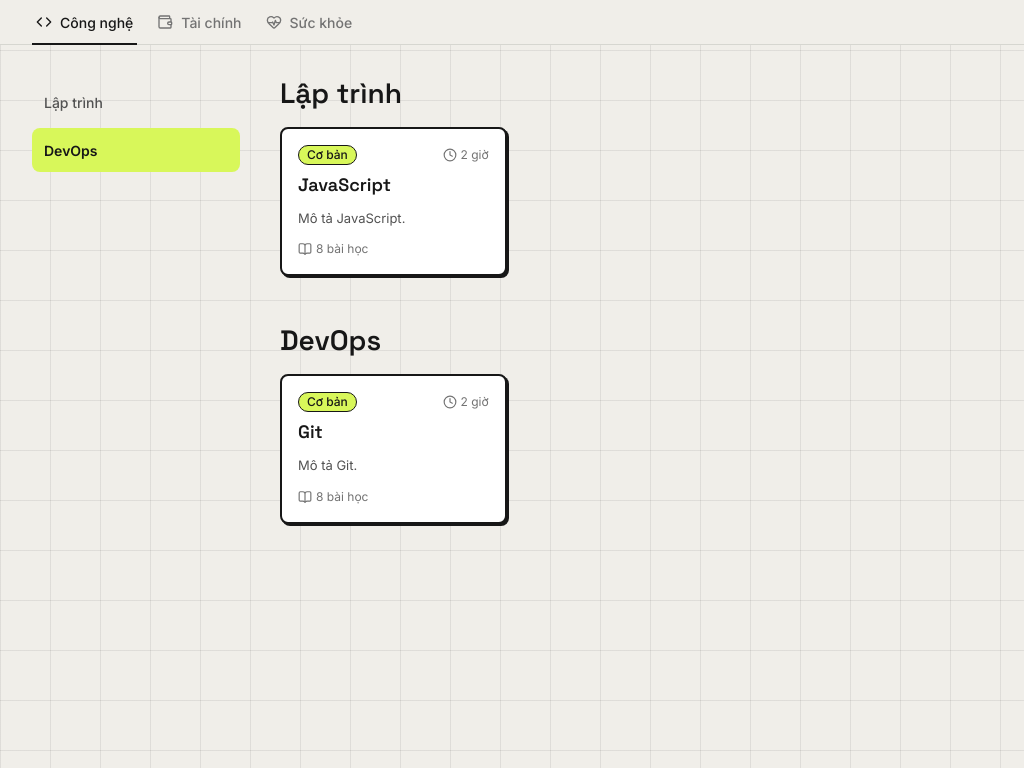
LearningHub › swaps the whole content when another tab is chosen, and goes back to the top
(page scrolled)
Click the tab "Tài chính" at {"x": 199, "y": 22}, box [153,0,246,44]
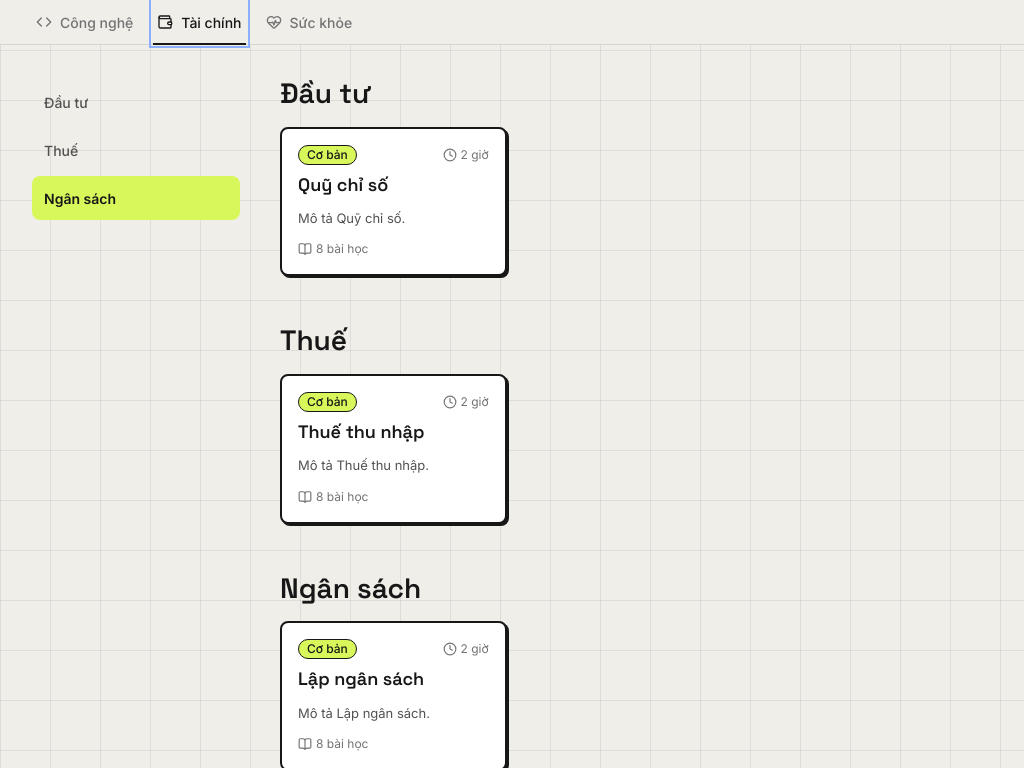
expect the navigation bar named "Phân loại trong lĩnh vực Tài chính" is shown: met, box [32,80,240,220]
expect the headings read "Đầu tư", "Thuế", "Ngân sách", in this order: met, box [280,75,371,111]; [280,322,347,358]; [280,570,421,606]
expect the button "Lập trình" is gone: met
